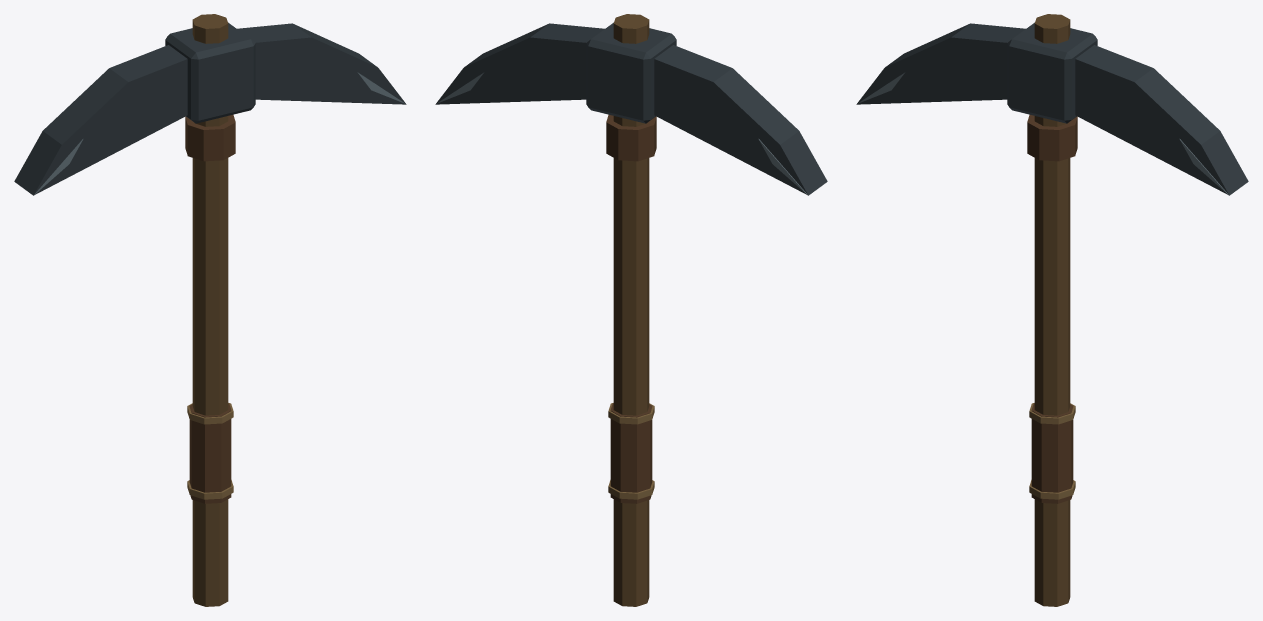
File: Pickaxe.glb
3 views of the same model, side by side, from view 1: azimuth 30°, elevation 25°; view 2: azimuth 150°, elevation 25°; view 3: azimuth 330°, elevation 25° (orthographic).
Visible parts, largest first — view 1: Sculpture; view 2: Sculpture; view 3: Sculpture.
Boxes of the visible parts, box(x1,y1,x2,y2) form: Sculpture: box(14, 14, 406, 606); Sculpture: box(435, 14, 827, 606); Sculpture: box(856, 14, 1248, 606).
Bounding box in the file's own units: 0.774 × 1.15 × 0.113.
